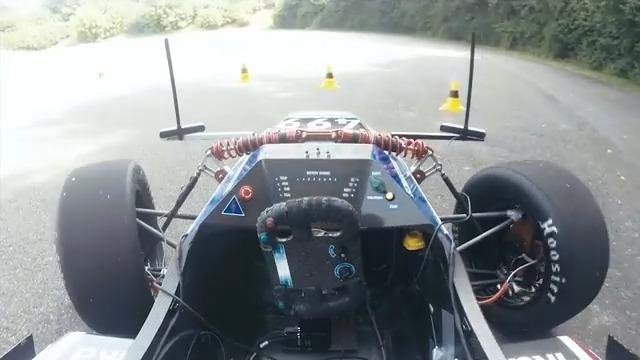yellow_cone: (443, 82, 465, 113), (319, 67, 337, 91), (237, 64, 251, 84)
